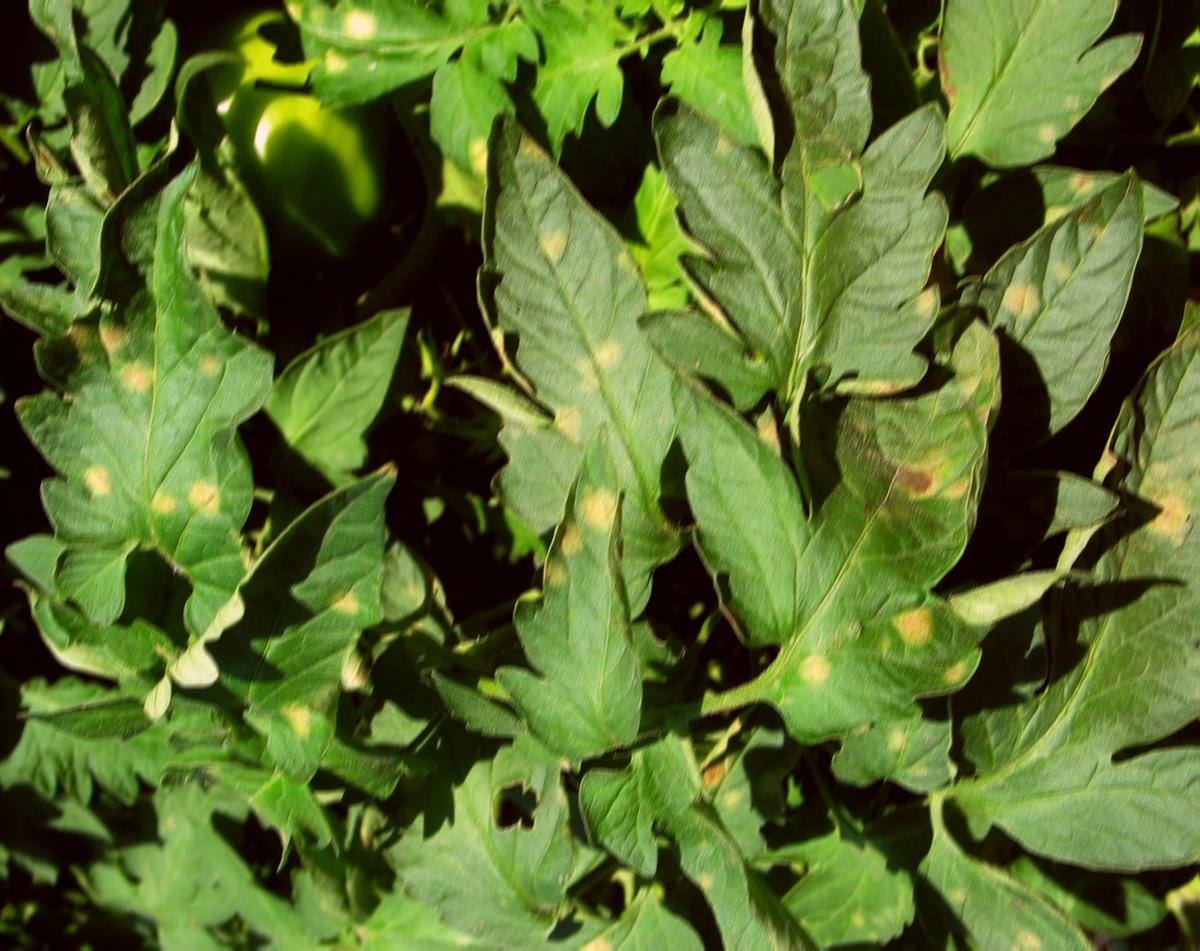Tomato mold leaf: (674, 336, 1037, 759), (432, 116, 708, 572), (16, 150, 256, 646), (644, 50, 975, 399), (157, 479, 405, 773), (947, 160, 1156, 449), (516, 422, 646, 763)
